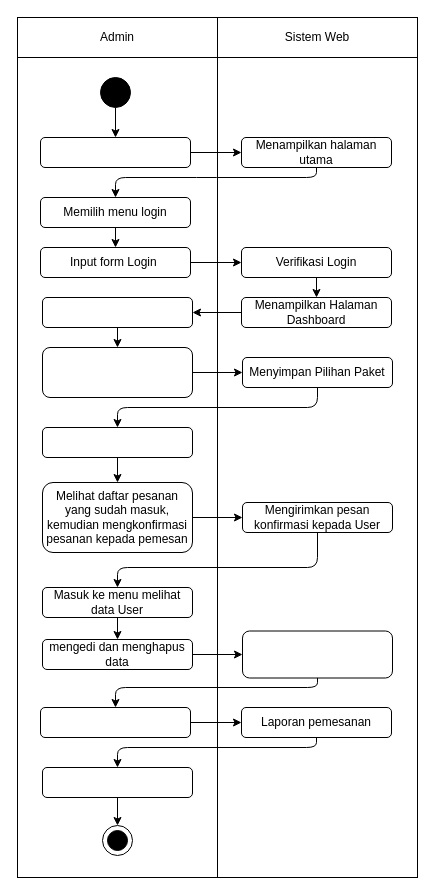
This 435x895 diagram has some shape labels left out. The centre of each missing label's shape, as x and y in pixels:
Input Harga dan Masa Berlaku: pixel 117 372
Log Out: pixel 117 782
Masuk ke Input Menu paket: pixel 117 312
Masuk ke Mengelola pesanan: pixel 117 442
Masuk ke menu Laporan: pixel 115 722
Membuka Sistem Web: pixel 115 152
Menyimpan dan kembali data menampilkan data User: pixel 317 654
